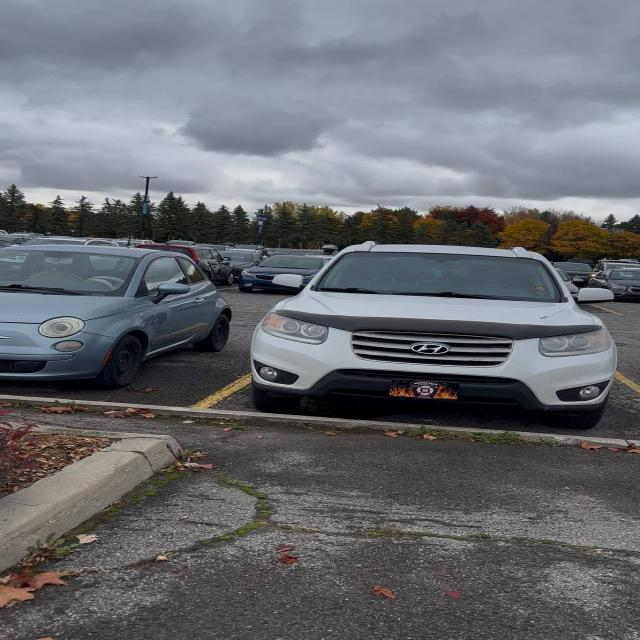plaque: (390, 380, 459, 399)
